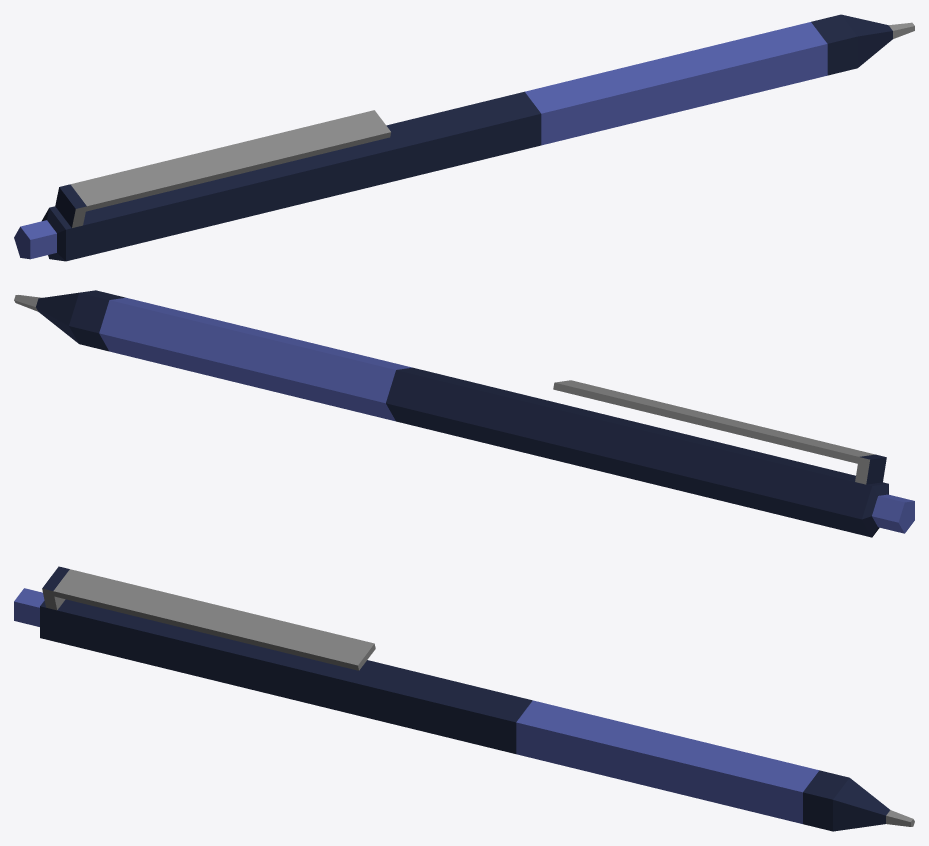
File: Pen.fbx
3 renders of one model, top to bottom at view 1: azimuth 30°, elevation 25°; view 2: azimuth 150°, elevation 25°; view 3: azimuth 330°, elevation 25°, orthographic.
Visible parts, largest first — view 1: Model; view 2: Model; view 3: Model.
Part boxes in pixels (box(x1,y1,x2,y2)): Model: box(14, 14, 914, 261); Model: box(14, 290, 914, 537); Model: box(14, 566, 914, 831).
Bounding box in the file's own units: 0.3788 × 0.0299 × 0.0228.
